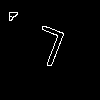L: (24, 24, 68, 77)
